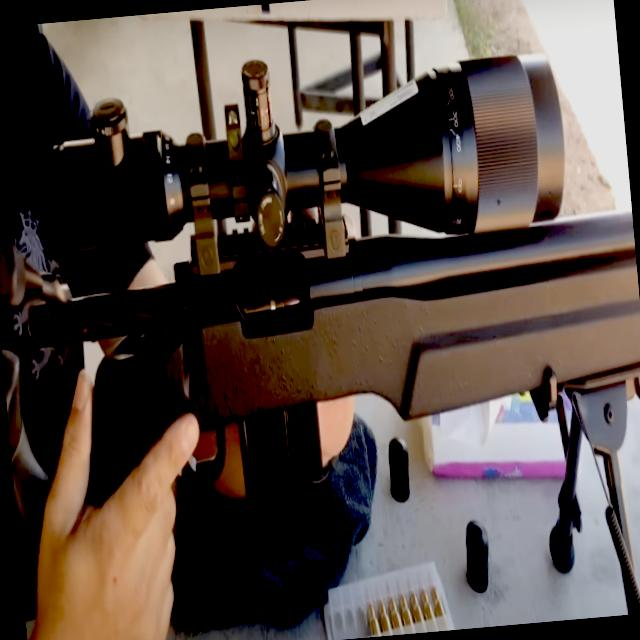rifle: (0, 26, 640, 607)
